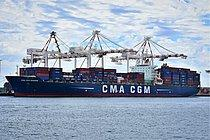Ship: (5, 61, 204, 101)
